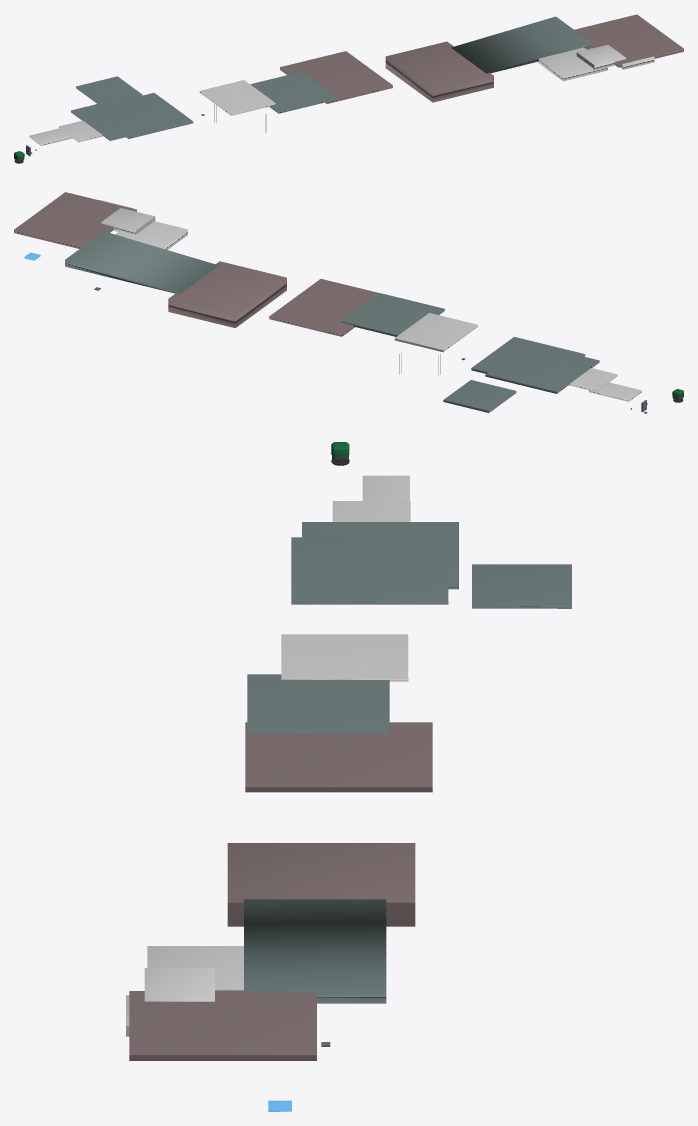
The model's file is Level5LowCombined.fbx.
3 views of the same model, one above another, from view 1: azimuth 30°, elevation 25°; view 2: azimuth 150°, elevation 25°; view 3: azimuth 270°, elevation 25° (orthographic). The views are drawn at different scales.
Parts seen in each view (by area): view 1: Block7592, Block8367, Block8366, Block8373, Block8381, Block8376, Block8377, Block8363, Block8380, Block23733, Block8364, Block8382 (+1 smaller); view 2: Block7592, Block8367, Block8366, Block8373, Block8381, Block8376, Block8377, Block8380, Block23733, Block8363, Block8364, Block8382 (+1 smaller); view 3: Block7592, Block8366, Block8367, Block8373, Block8381, Block8376, Block8377, Block8380, Block23733, Block8363, Block8364, Block8382 (+1 smaller).
Part boxes in pixels (left/top/right/bottom): Block7592: left=451, top=16, right=591, bottom=73; Block8367: left=385, top=41, right=493, bottom=102; Block8366: left=574, top=14, right=683, bottom=67; Block8373: left=280, top=51, right=392, bottom=103; Block8381: left=89, top=93, right=193, bottom=138; Block8376: left=250, top=71, right=337, bottom=113; Block8377: left=199, top=80, right=275, bottom=115; Block8363: left=538, top=47, right=607, bottom=81; Block8380: left=76, top=76, right=142, bottom=103; Block23733: left=71, top=94, right=138, bottom=140; Block8364: left=576, top=45, right=625, bottom=70; Block8382: left=59, top=120, right=103, bottom=142; Block7592: left=65, top=231, right=218, bottom=293; Block8367: left=168, top=261, right=286, bottom=328; Block8366: left=14, top=192, right=136, bottom=248; Block8373: left=269, top=279, right=379, bottom=336; Block8381: left=471, top=337, right=585, bottom=385; Block8376: left=341, top=293, right=444, bottom=336; Block8377: left=394, top=313, right=477, bottom=352; Block8380: left=443, top=380, right=516, bottom=412; Block23733: left=485, top=356, right=599, bottom=393; Block8363: left=115, top=221, right=187, bottom=249; Block8364: left=101, top=208, right=155, bottom=234; Block8382: left=569, top=368, right=617, bottom=391; Block7592: left=244, top=899, right=386, bottom=1003; Block8366: left=129, top=991, right=316, bottom=1060; Block8367: left=227, top=843, right=415, bottom=926; Block8373: left=245, top=722, right=432, bottom=792; Block8381: left=291, top=537, right=448, bottom=604; Block8376: left=247, top=674, right=389, bottom=733; Block8377: left=281, top=634, right=408, bottom=681; Block8380: left=472, top=564, right=571, bottom=608; Block23733: left=302, top=522, right=458, bottom=589; Block8363: left=147, top=946, right=243, bottom=990; Block8364: left=144, top=968, right=214, bottom=1001; Block8382: left=332, top=501, right=410, bottom=521.
Size of the model in its own units: 546 by 37.96 by 171.
